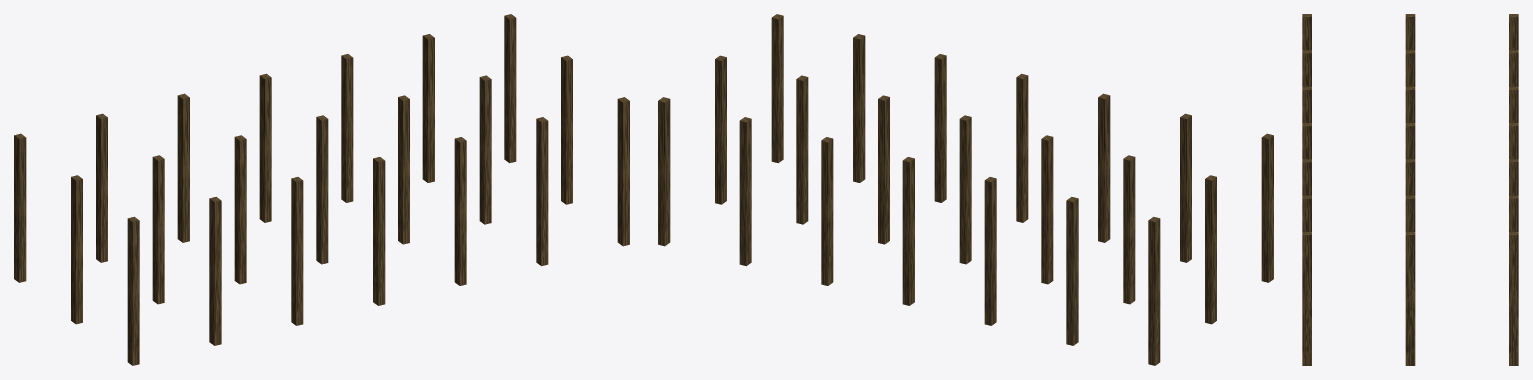
The model's file is wwood.fbx.
The picture shows the model from 3 angles, left to right: view 1: azimuth 30°, elevation 25°; view 2: azimuth 150°, elevation 25°; view 3: azimuth 270°, elevation 25°; orthographic projection. The views are drawn at different scales.
Parts seen in each view (by area): view 1: Box183; view 2: Box183; view 3: Box183.
Part boxes in pixels (x1,y1,x2,y2): Box183: (14, 14, 629, 365); Box183: (658, 14, 1273, 365); Box183: (1302, 14, 1518, 365).
Bounding box in the file's own units: 113 × 31.26 × 46.74.
